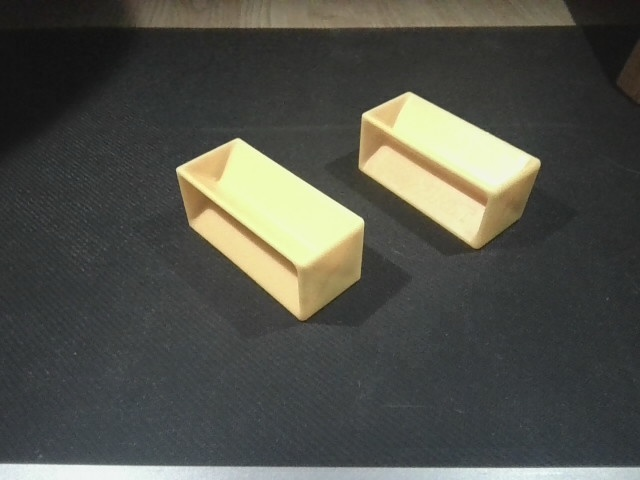YellowSample: (171, 136, 365, 324), (356, 89, 544, 254)
